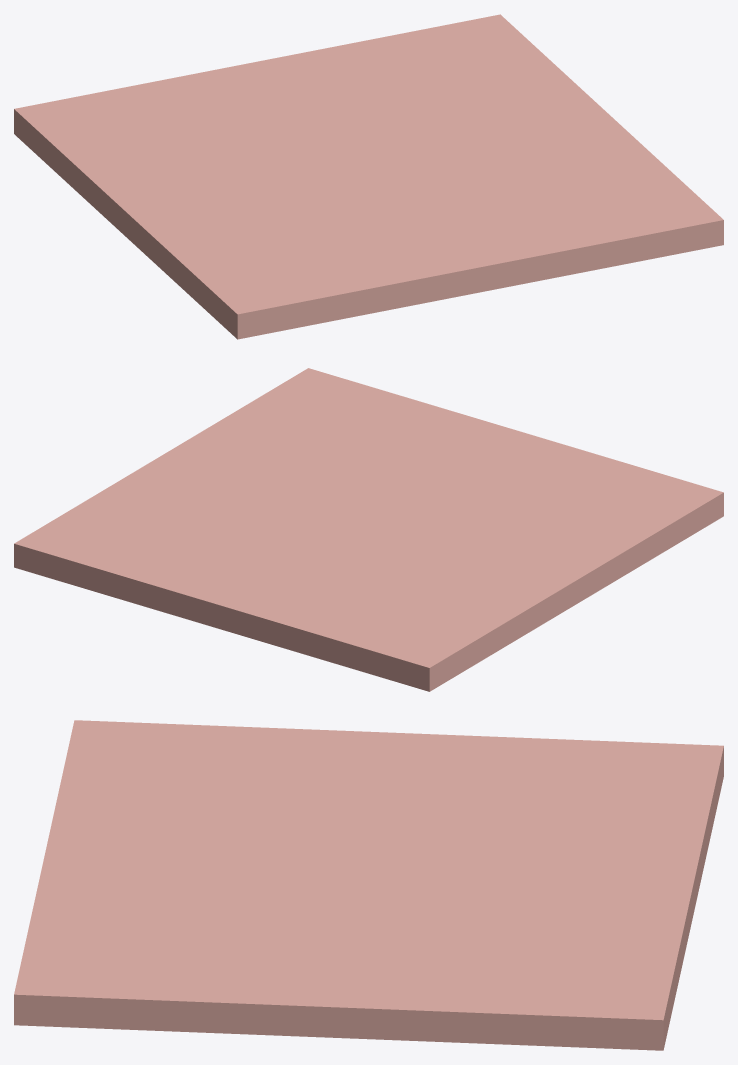
The model's file is MesaPMouse.fbx.
3 views of the same model, one above another, from view 1: azimuth 30°, elevation 25°; view 2: azimuth 150°, elevation 25°; view 3: azimuth 270°, elevation 25° (orthographic). The views are drawn at different scales.
Parts seen in each view (by area): view 1: BasePCA.002; view 2: BasePCA.002; view 3: BasePCA.002.
Boxes of the visible parts, bbox=[...] form: BasePCA.002: bbox=[14, 14, 723, 339]; BasePCA.002: bbox=[14, 368, 723, 691]; BasePCA.002: bbox=[14, 720, 723, 1050].
Bounding box in the file's own units: 20.54 × 0.9765 × 20.54.
